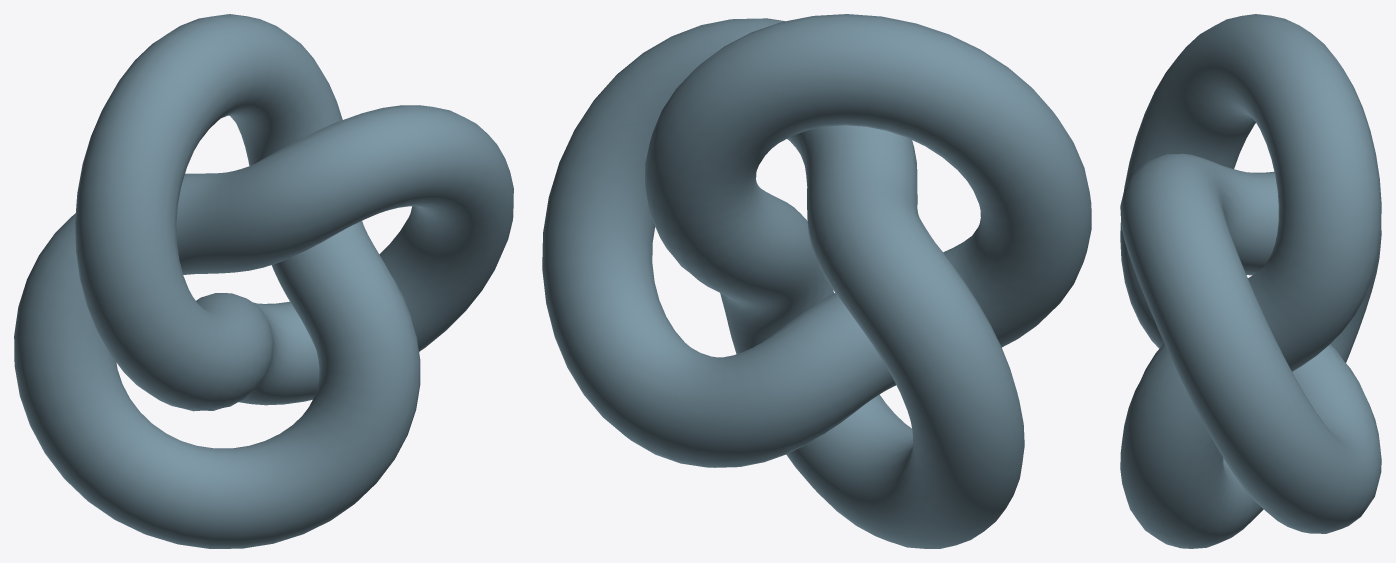
File: knot.glb
3 renders of one model, left to right at view 1: azimuth 30°, elevation 25°; view 2: azimuth 150°, elevation 25°; view 3: azimuth 270°, elevation 25°, orthographic. The views are drawn at different scales.
Bounding box in the file's own units: 1.33 × 1.39 × 0.6594.
